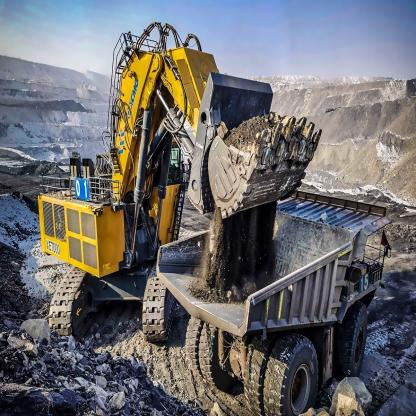dump_truck: (158, 202, 410, 412)
